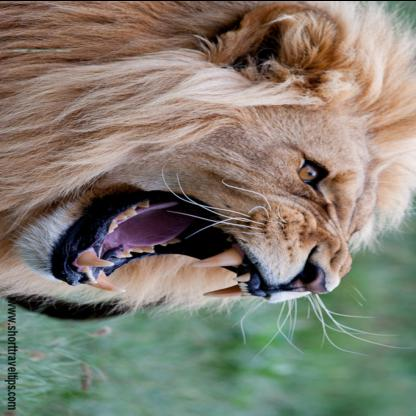lion: (30, 2, 407, 306)
